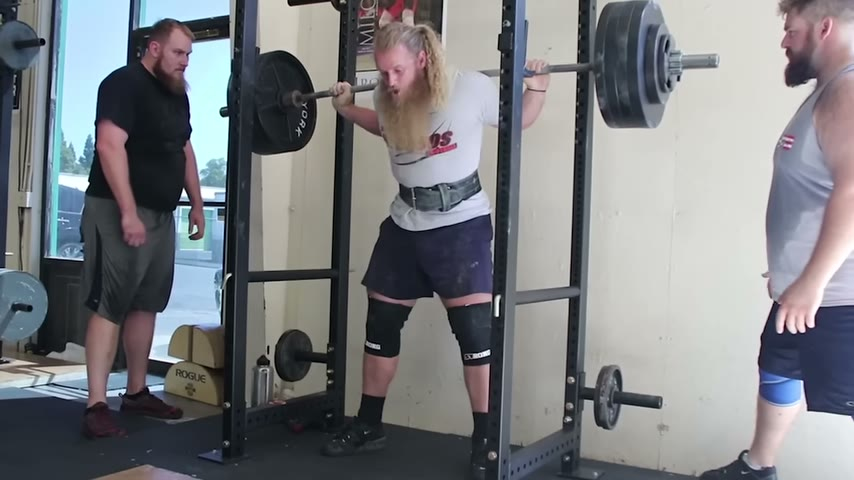barbell_plate_side: (640, 1, 723, 132), (216, 43, 294, 161)
